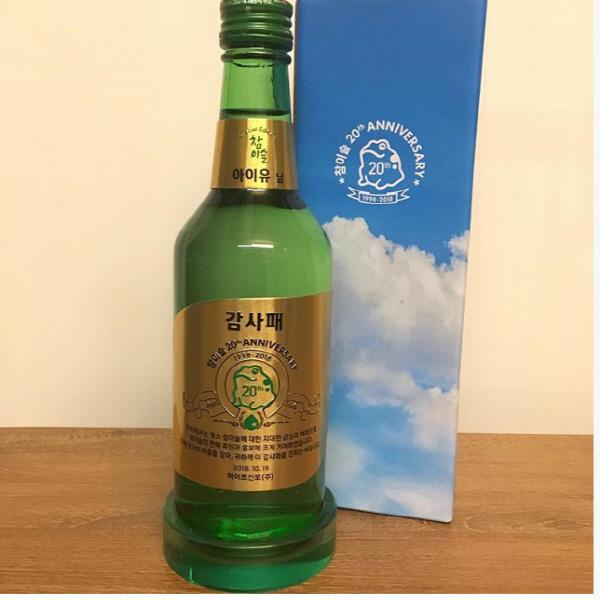soju: (160, 1, 343, 592)
